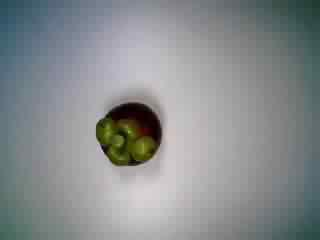mangosteen: (90, 95, 171, 175)
